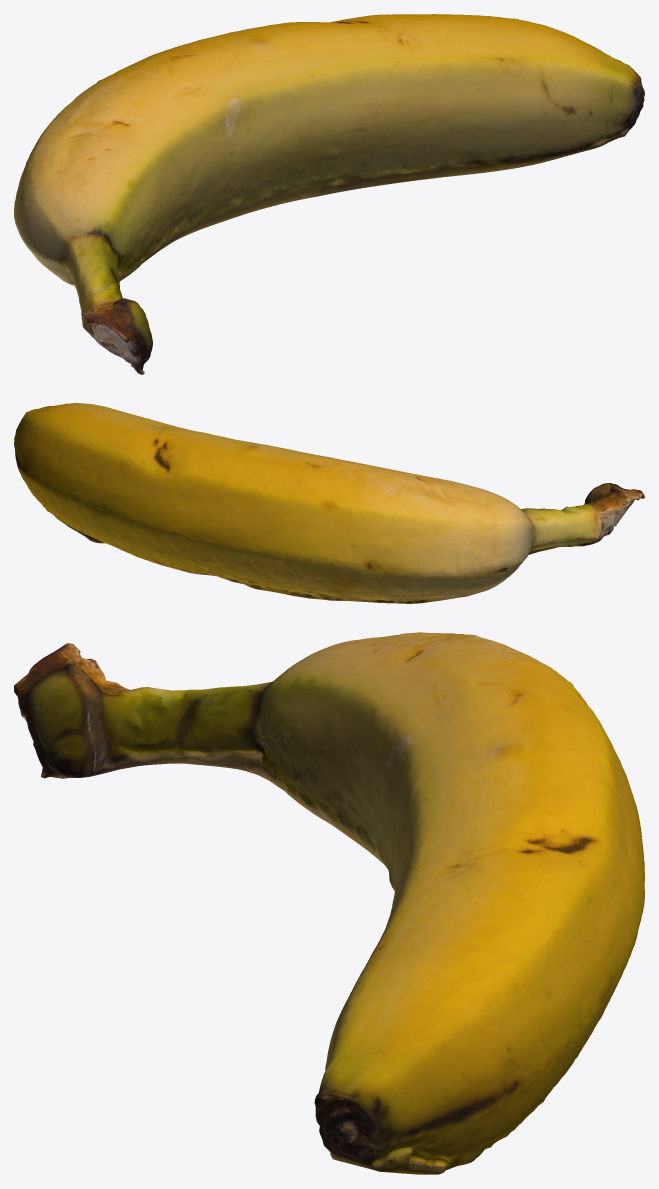
Rendered from banannaTest.glb.
The picture shows the model from 3 angles, top to bottom: view 1: azimuth 30°, elevation 25°; view 2: azimuth 150°, elevation 25°; view 3: azimuth 270°, elevation 25°; orthographic projection. The views are drawn at different scales.
Parts seen in each view (by area): view 1: BANANA; view 2: BANANA; view 3: BANANA.
Boxes of the visible parts, x1,y1,x2,y2 form: BANANA: (14,14,644,374); BANANA: (14,403,644,603); BANANA: (14,632,644,1174).
Bounding box in the file's own units: 4.73 × 1.15 × 2.66.
Materials: 1 (1 with a texture image).
